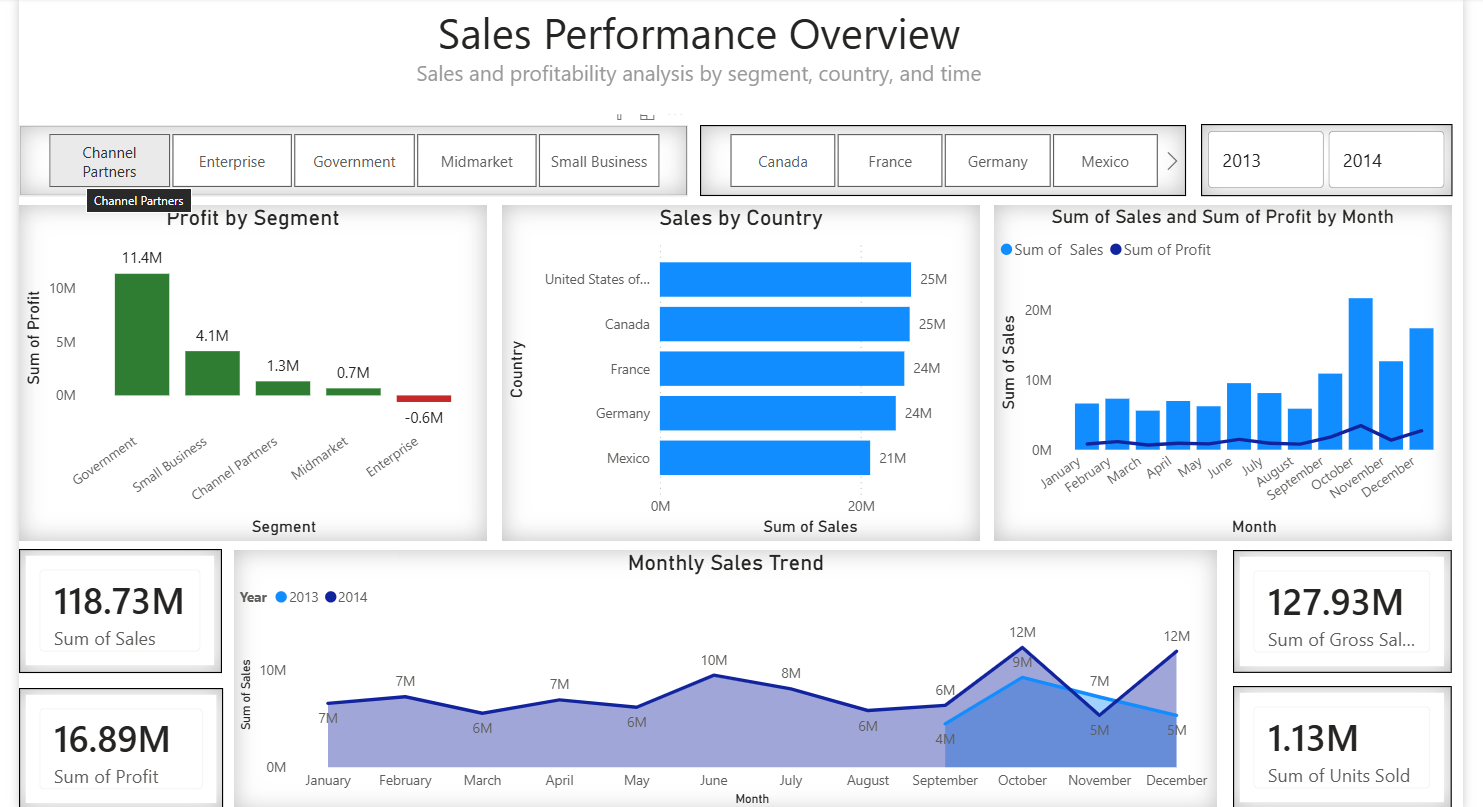

Layout of this report page (visuals, bound fields, positions):
{"tool":"powerbi","page":{"name":"Dashboard","canvas":[1280,720],"ordinal":5},"visuals":[{"type":"cardVisual","title":"Total S","fields":{"Data":["Sum(financials. Sales)"]},"box":[0,488.5,179.8,109.8],"z":0},{"type":"cardVisual","fields":{"Data":["Sum(financials.Profit)"]},"box":[0,612,181.1,108.4],"z":1000},{"type":"cardVisual","fields":{"Data":["Sum(financials.Units Sold)"]},"box":[1076.6,610.2,193.8,109],"z":2000},{"type":"lineChart","title":"Monthly Sales Trend","fields":{"Category":["financials.Date.Variation.Date Hierarchy.Month"],"Y":["Sum(financials. Sales)"],"Series":["financials.Date.Variation.Date Hierarchy.Year"]},"box":[190.8,489.1,872.2,231.7],"z":3000},{"type":"cardVisual","fields":{"Data":["Sum(financials.Gross Sales)"]},"box":[1076.6,489.1,193.8,109],"z":4000},{"type":"columnChart","title":"Profit by Segment","fields":{"Category":["financials.Segment"],"Y":["Sum(financials.Profit)"]},"box":[0,183.2,414.9,298.3],"z":5000},{"type":"barChart","title":"Sales by Country","fields":{"Category":["financials.Country"],"Y":["Sum(financials. Sales)"]},"box":[428.5,183.2,424,298.3],"z":6000},{"type":"lineClusteredColumnComboChart","fields":{"Category":["financials.Date.Variation.Date Hierarchy.Month"],"Y":["Sum(financials. Sales)"],"Y2":["Sum(financials.Profit)"]},"box":[864.6,183.2,405.8,298.3],"z":7000},{"type":"advancedSlicerVisual","fields":{"Values":["financials.Date.Variation.Date Hierarchy.Year"]},"box":[1047.8,112.1,222.6,63.6],"z":8000},{"type":"slicer","fields":{"Values":["financials.Segment"]},"box":[0,112.5,592.8,63.1],"z":9000},{"type":"slicer","fields":{"Values":["financials.Country"]},"box":[603.8,112.5,430.9,63.1],"z":10000},{"type":"textbox","box":[48,0,1110.1,102.9],"z":11000}]}

Visuals, with their boxes on the page's 1280x720 design canvas (x1, y1, x2, y2). These are canvas units, not pixel positions in the 1483x807 screenshot, which may show the page scaled, cropped or inside an application window:
"Total S" cardVisual: (left=0, top=488, right=180, bottom=598)
cardVisual - Sum(financials.Profit): (left=0, top=612, right=181, bottom=720)
cardVisual - Sum(financials.Units Sold): (left=1077, top=610, right=1270, bottom=719)
"Monthly Sales Trend" lineChart: (left=191, top=489, right=1063, bottom=721)
cardVisual - Sum(financials.Gross Sales): (left=1077, top=489, right=1270, bottom=598)
"Profit by Segment" columnChart: (left=0, top=183, right=415, bottom=482)
"Sales by Country" barChart: (left=428, top=183, right=852, bottom=482)
lineClusteredColumnComboChart - financials.Date.Variation.Date Hierarchy.Month x Sum(financials. Sales): (left=865, top=183, right=1270, bottom=482)
advancedSlicerVisual - financials.Date.Variation.Date Hierarchy.Year: (left=1048, top=112, right=1270, bottom=176)
slicer - financials.Segment: (left=0, top=112, right=593, bottom=176)
slicer - financials.Country: (left=604, top=112, right=1035, bottom=176)
textbox: (left=48, top=0, right=1158, bottom=103)
